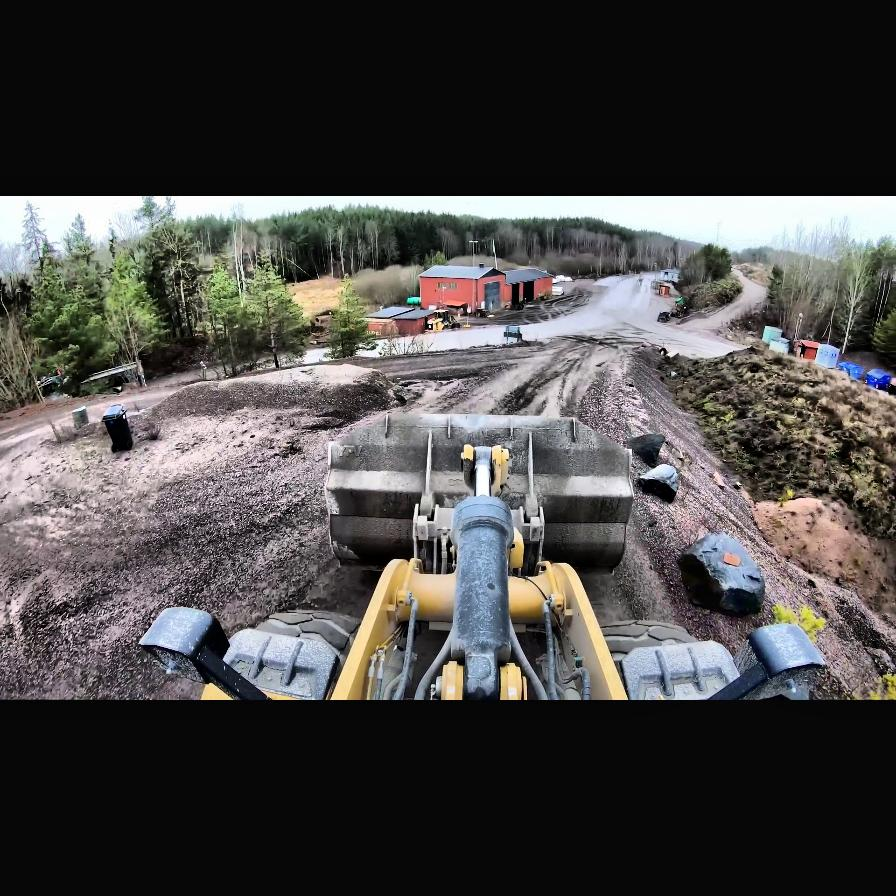anchor: (462, 442, 510, 496)
